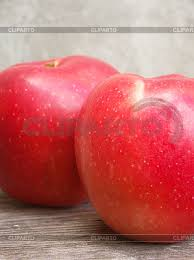apple: (75, 75, 192, 238), (2, 54, 119, 211)
